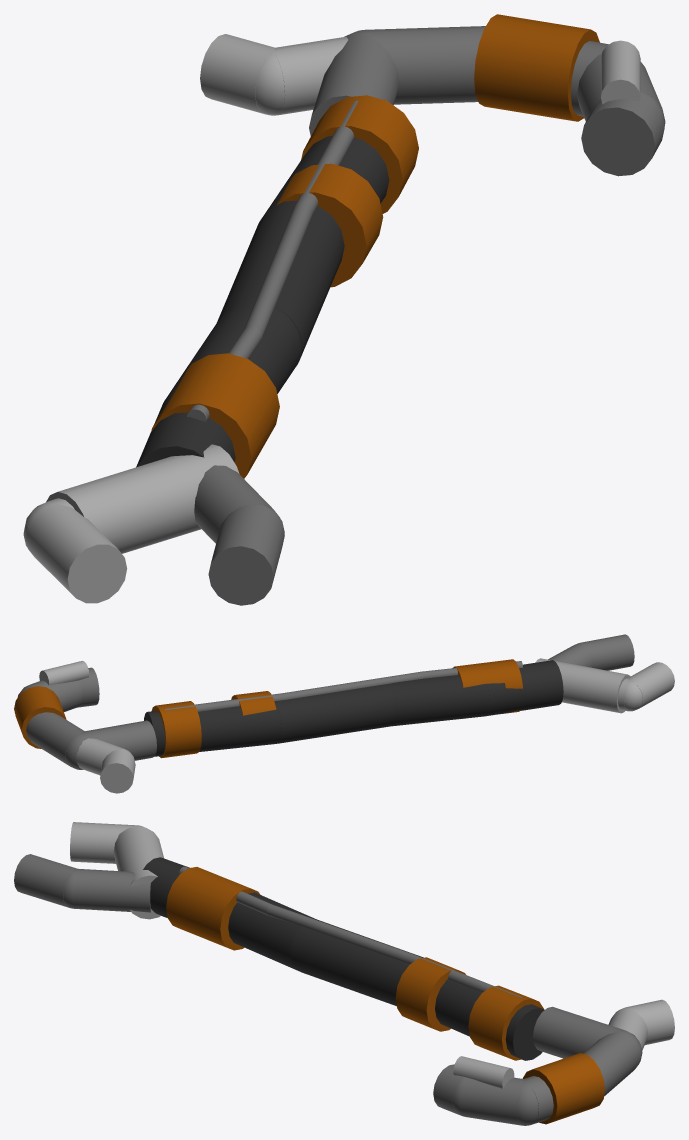
The model's file is CMU3DHandMaintenanceJackCloud.glb.
The picture shows the model from 3 angles, top to bottom: view 1: azimuth 30°, elevation 25°; view 2: azimuth 150°, elevation 25°; view 3: azimuth 270°, elevation 25°; orthographic projection. The views are drawn at different scales.
Visible parts, largest first — view 1: lower head heel, upper orange wrap, black compound tool shaft segment 3, orange safety band 1, upper fork outer jaw segment 2, lower wrench fork left segment 2, lower wrench fork right segment 2, orange safety band 2, orange safety band 3, upper fork outer jaw segment 5, upper fork outer jaw segment 1, black compound tool shaft segment 2 (+12 smaller); view 2: black compound tool shaft segment 3, black compound tool shaft segment 2, black compound tool shaft segment 4, black compound tool shaft segment 1, lower head heel, orange safety band 3, upper fork outer jaw segment 1, upper fork outer jaw segment 2, orange safety band 1, upper orange wrap, lower wrench fork right segment 2, upper pry toe segment 2 (+12 smaller); view 3: black compound tool shaft segment 3, orange safety band 1, upper orange wrap, black compound tool shaft segment 4, black compound tool shaft segment 2, lower wrench fork right segment 1, upper fork outer jaw segment 1, orange safety band 3, orange safety band 2, upper fork outer jaw segment 4, lower head heel, lower wrench fork right segment 2 (+12 smaller).
Part boxes in pixels (box(x1,y1,x2,y2)): lower head heel: box(46, 444, 239, 553); upper orange wrap: box(474, 14, 599, 121); black compound tool shaft segment 3: box(217, 201, 344, 362); orange safety band 1: box(151, 353, 279, 478); upper fork outer jaw segment 2: box(365, 26, 485, 104); lower wrench fork left segment 2: box(26, 503, 127, 603); lower wrench fork right segment 2: box(208, 504, 284, 605); orange safety band 2: box(277, 163, 383, 287); orange safety band 3: box(301, 95, 418, 213); upper fork outer jaw segment 5: box(581, 93, 664, 176); upper fork outer jaw segment 1: box(309, 33, 399, 136); black compound tool shaft segment 2: box(164, 302, 301, 400); black compound tool shaft segment 3: box(275, 684, 394, 743); black compound tool shaft segment 2: box(388, 675, 487, 726); black compound tool shaft segment 4: box(144, 701, 279, 756); black compound tool shaft segment 1: box(485, 660, 563, 716); lower head heel: box(535, 658, 630, 713); orange safety band 3: box(151, 701, 201, 758); upper fork outer jaw segment 1: box(81, 720, 156, 760); upper fork outer jaw segment 2: box(27, 712, 84, 765); orange safety band 1: box(452, 659, 522, 718); upper orange wrap: box(14, 686, 66, 748); lower wrench fork right segment 2: box(580, 634, 634, 670); upper pry toe segment 2: box(100, 749, 135, 793); black compound tool shaft segment 3: box(292, 919, 423, 1006); orange safety band 1: box(166, 867, 260, 950); upper orange wrap: box(522, 1053, 604, 1124); black compound tool shaft segment 4: box(435, 979, 544, 1060); black compound tool shaft segment 2: box(228, 892, 316, 969); lower wrench fork right segment 1: box(72, 868, 150, 912); upper fork outer jaw segment 1: box(533, 1006, 624, 1058); orange safety band 3: box(468, 985, 544, 1060); orange safety band 2: box(395, 957, 465, 1031); upper fork outer jaw segment 4: box(460, 1077, 524, 1125); lower head heel: box(113, 826, 164, 919); lower wrench fork right segment 2: box(14, 854, 77, 907).
Bounding box in the file's own units: 0.8083 × 0.0831 × 0.8006.
